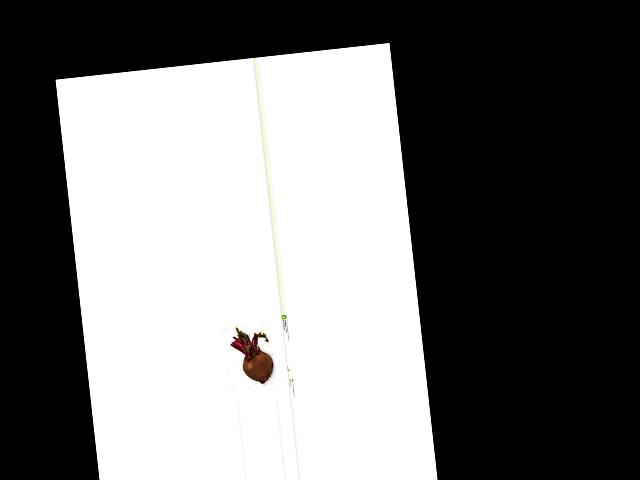beet: (229, 324, 274, 387)
